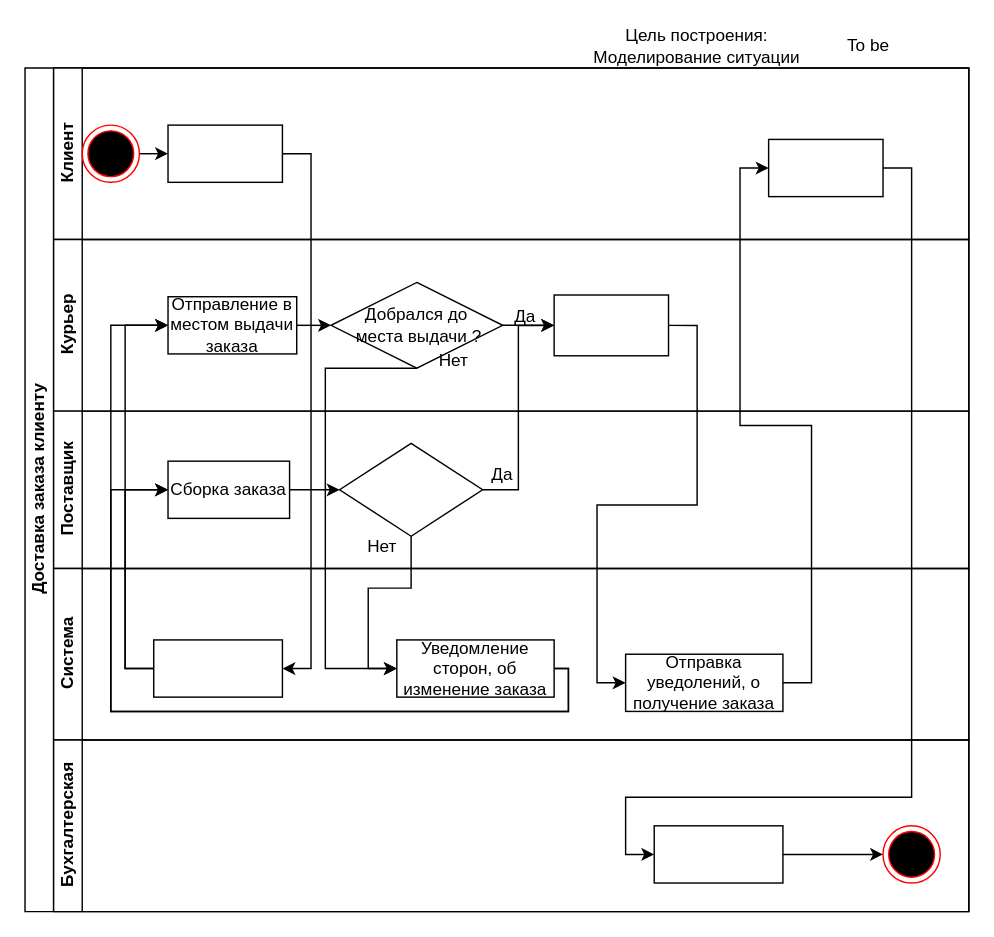
This 994x937 diagram has some shape labels left out. The centre of each missing label's shape, as x and y in pixels:
"Оформление заказа" goes at (224,153).
"Получение заказа" goes at (611,325).
"Получение и оплата заказа" goes at (825,167).
"Получение и формирование заказа" goes at (217,667).
"Товары в наличии?" goes at (410,489).
"Формирование отчетов" goes at (718,853).
